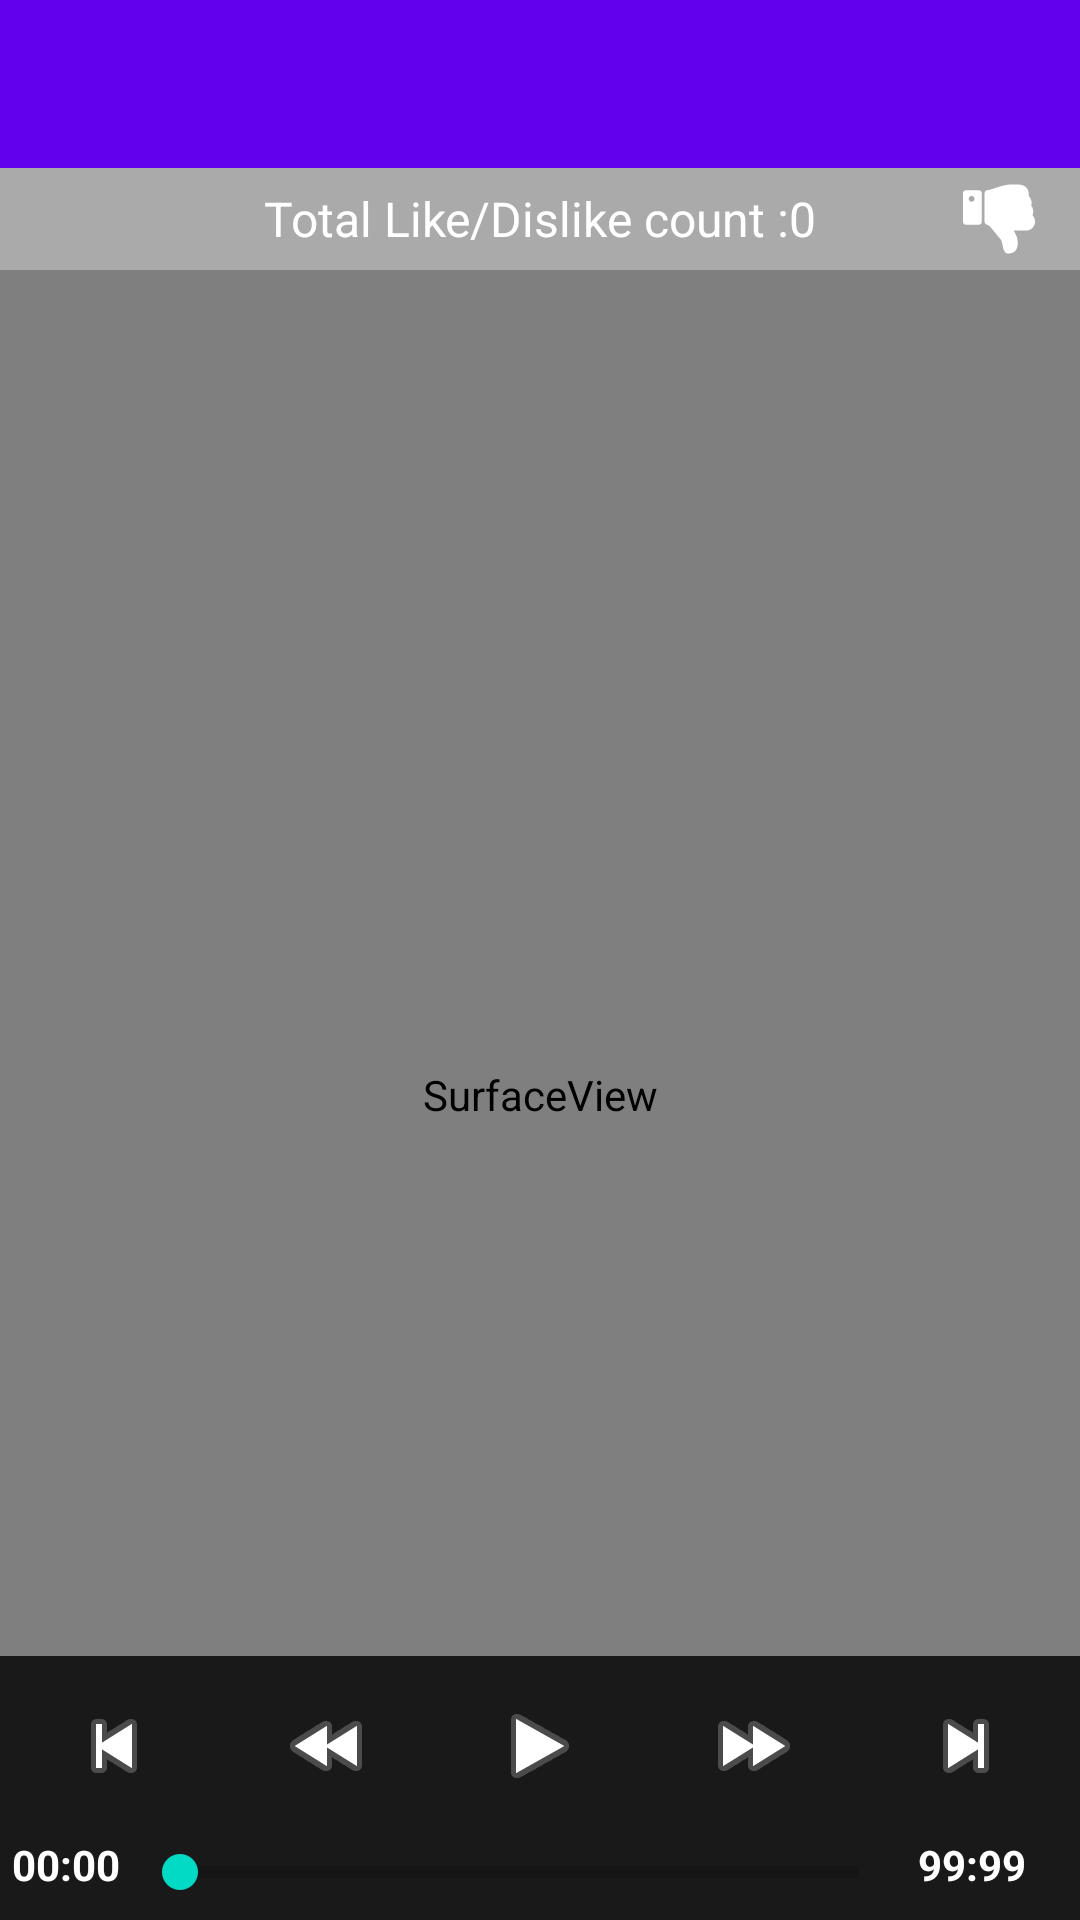

Named icons in this screenshot (1080×1920) and their centers, [x,y]:
dislike: [999,219]
